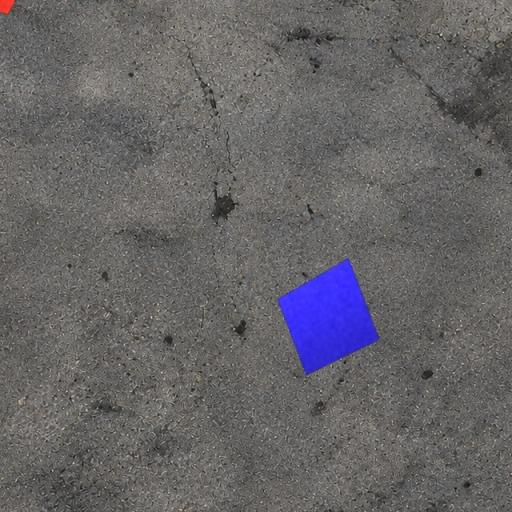BLUE_SQUARE: (277, 258, 380, 376)
